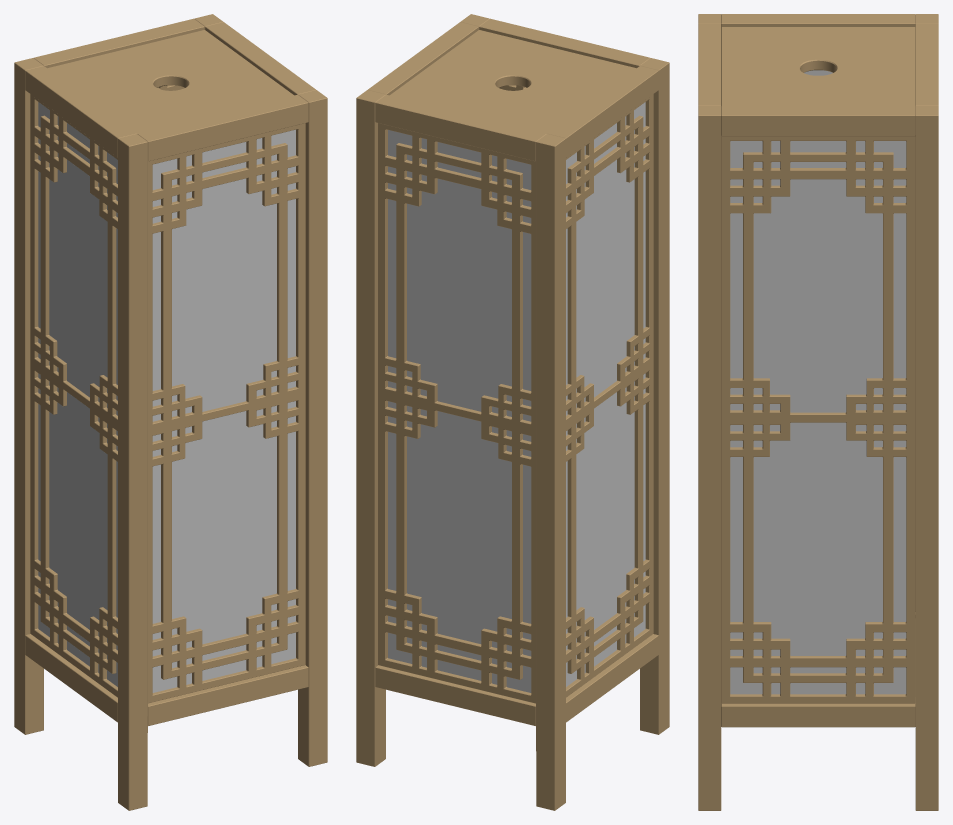
Rendered from SM_StandLightSeal.fbx.
The picture shows the model from 3 angles, left to right: view 1: azimuth 30°, elevation 25°; view 2: azimuth 150°, elevation 25°; view 3: azimuth 270°, elevation 25°; orthographic projection. The views are drawn at different scales.
Visible parts, largest first — view 1: SM_StandLightSeal; view 2: SM_StandLightSeal; view 3: SM_StandLightSeal.
Boxes of the visible parts, box(x1,y1,x2,y2) form: SM_StandLightSeal: box(14, 14, 327, 810); SM_StandLightSeal: box(356, 14, 669, 810); SM_StandLightSeal: box(698, 14, 938, 810).
Bounding box in the file's own units: 26 × 83 × 26.
